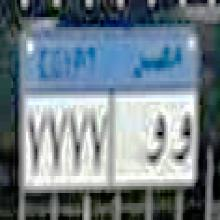7: (89, 110, 109, 175), (48, 106, 67, 172), (68, 106, 86, 174), (28, 106, 46, 174)
waw: (142, 111, 167, 171), (170, 111, 193, 171)
